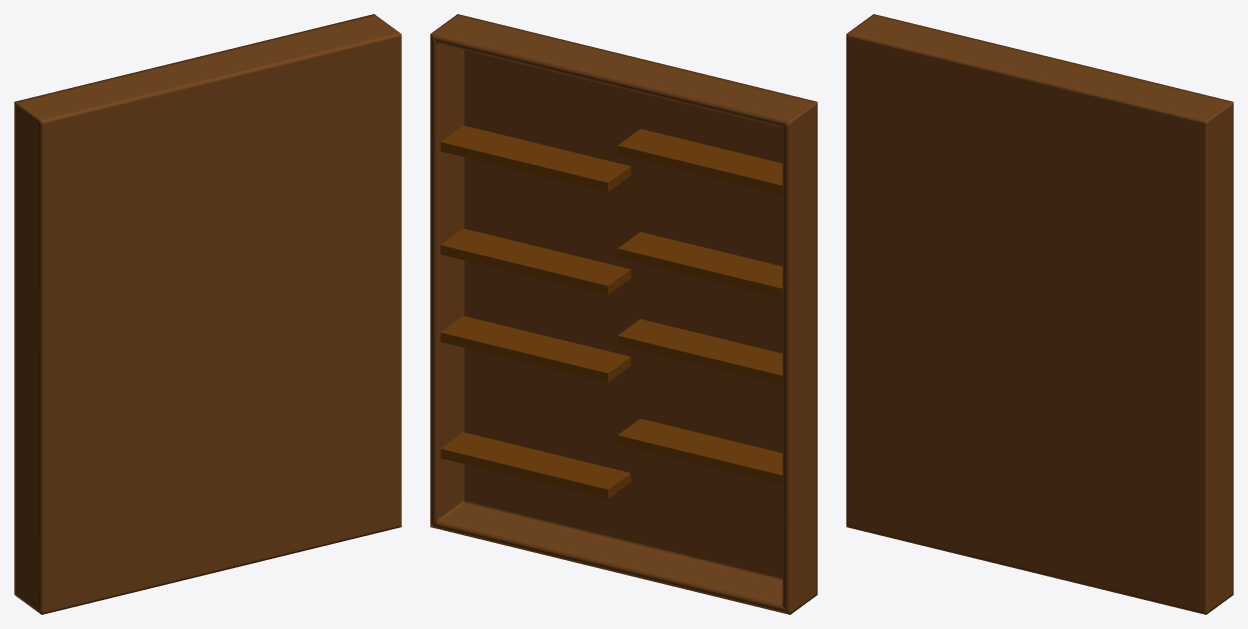
The model's file is Bookcase - Proxy.fbx.
3 renders of one model, left to right at view 1: azimuth 30°, elevation 25°; view 2: azimuth 150°, elevation 25°; view 3: azimuth 330°, elevation 25°, orthographic.
Parts seen in each view (by area): view 1: Bookcase; view 2: Bookcase; view 3: Bookcase.
Part boxes in pixels (left/top/right/bottom): Bookcase: left=14, top=14, right=401, bottom=614; Bookcase: left=430, top=14, right=817, bottom=614; Bookcase: left=846, top=14, right=1233, bottom=614.
Size of the model in its own units: 271 by 355 by 35.87.
